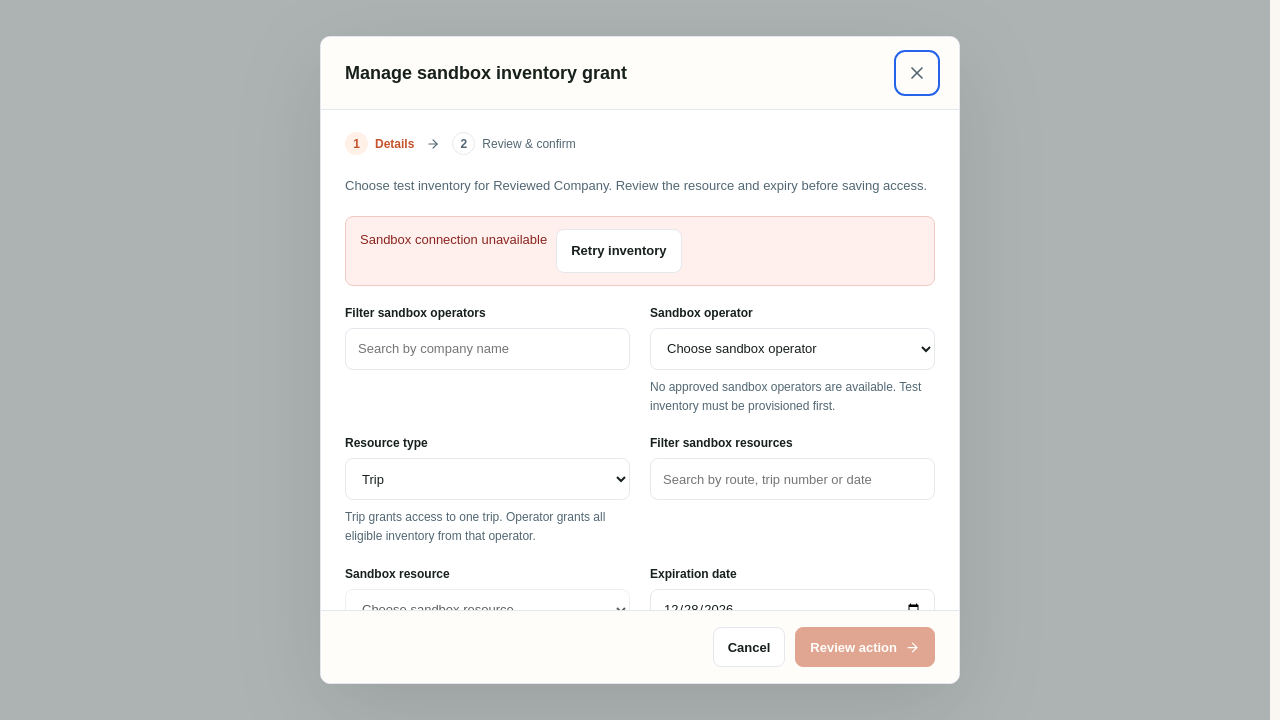
Test case: shows loading and recoverable failures instead of requesting pasted IDs
Later steps or results of the test are not shown.
Expected: the button "Review action" is disabled, [795,627,935,667]
Expected: the message shows "Sandbox connection unavailable", [360,232,547,247]
Step 1. Click the button "Retry inventory" → (619, 251), box [556,229,682,273]
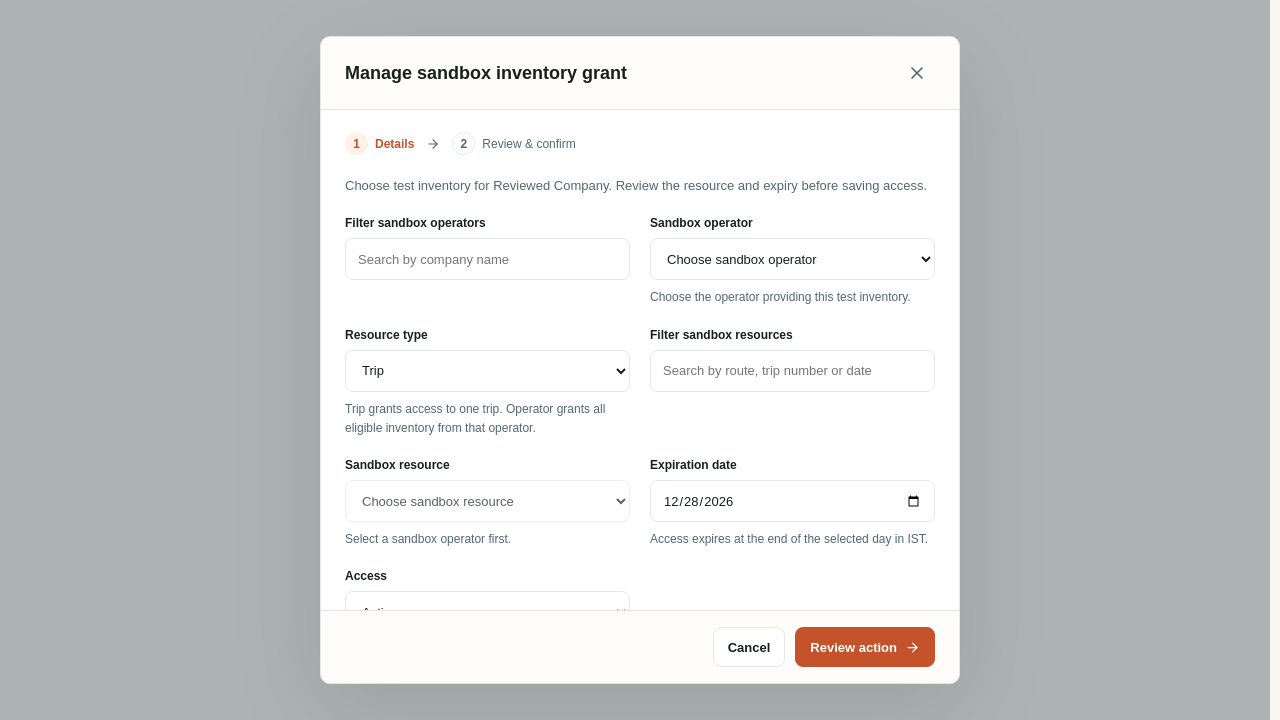
Expected: the message "Sandbox connection unavailable Retry inventory" is gone
